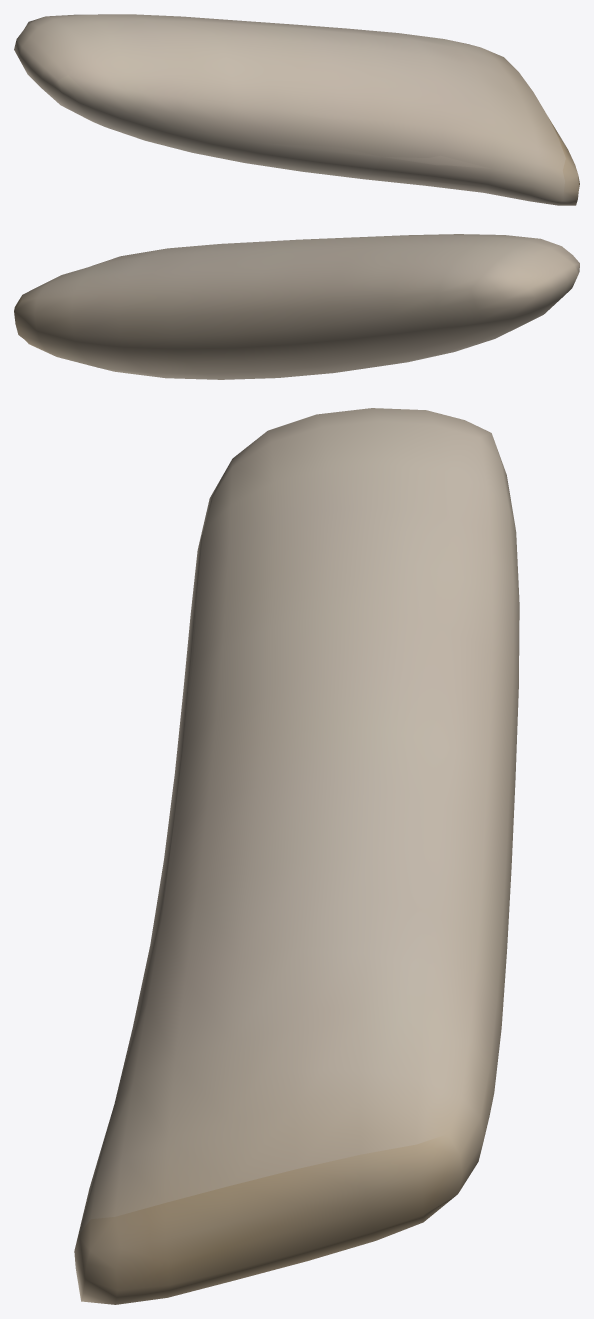
The picture shows the model from 3 angles, top to bottom: view 1: azimuth 30°, elevation 25°; view 2: azimuth 150°, elevation 25°; view 3: azimuth 270°, elevation 25°; orthographic projection. The views are drawn at different scales.
Visible parts, largest first — view 1: CC R2, CC R2 low; view 2: CC R2; view 3: CC R2.
Boxes of the visible parts, x1,y1,x2,y2 form: CC R2: [14, 14, 579, 205]; CC R2 low: [183, 97, 490, 187]; CC R2: [14, 234, 579, 379]; CC R2: [74, 408, 519, 1304].
Size of the model in its own units: 1.55 by 0.6837 by 0.6023.
Materials: 1 (1 with a texture image).
